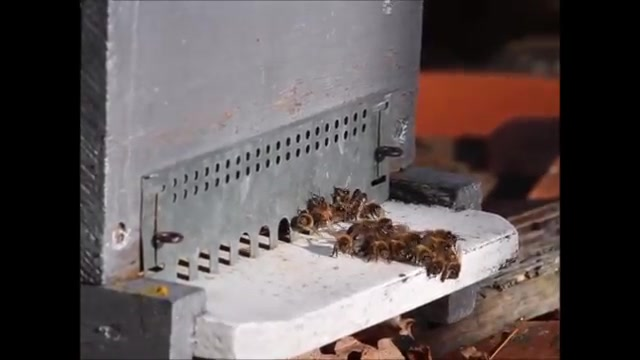bee: (324, 187, 383, 219), (408, 232, 443, 275), (332, 220, 367, 256), (373, 223, 407, 258), (440, 249, 462, 281), (303, 211, 322, 234)
